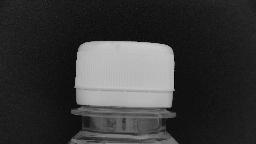Good Cap: (68, 35, 180, 123)
